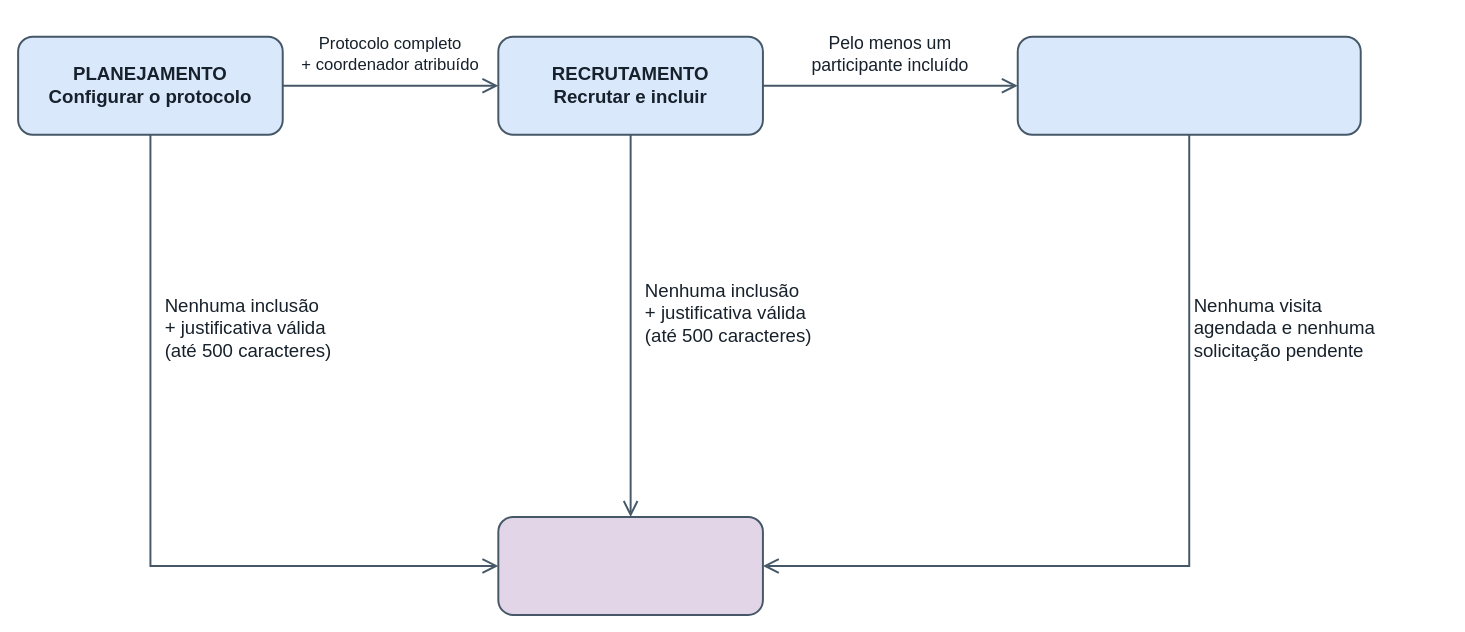
Image size: 1465x632. Some labels were removed from this diagram. Each missing label, with the box of its shape:
ENCERRADO Somente consultas: (497, 515, 763, 615)
EXECUCAO Novas inclusões bloqueadas: (1016, 35, 1361, 135)
